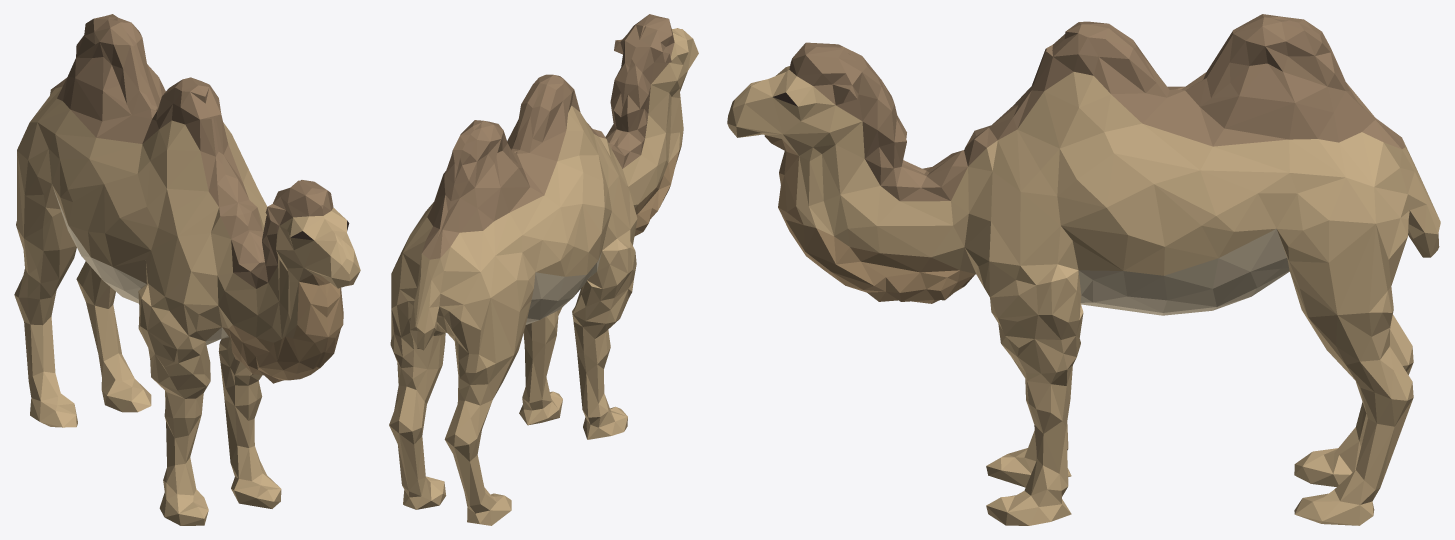
Rendered from Camel.fbx.
The picture shows the model from 3 angles, left to right: view 1: azimuth 30°, elevation 25°; view 2: azimuth 150°, elevation 25°; view 3: azimuth 270°, elevation 25°; orthographic projection. The views are drawn at different scales.
Parts seen in each view (by area): view 1: Верблюд; view 2: Верблюд; view 3: Верблюд.
Boxes of the visible parts, x1,y1,x2,y2 form: Верблюд: [14, 14, 360, 525]; Верблюд: [389, 14, 698, 525]; Верблюд: [727, 14, 1440, 525].
Bounding box in the file's own units: 0.5388 × 1.42 × 1.9.
